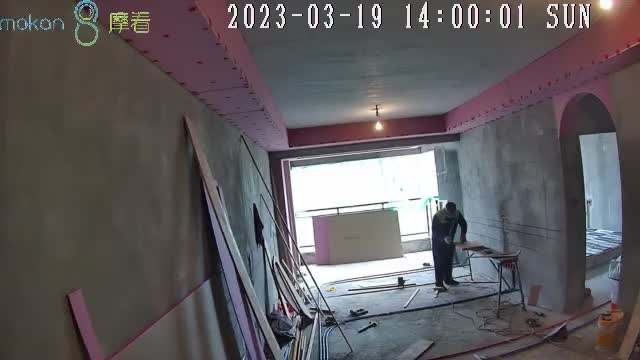people: (431, 201, 468, 292)
window: (287, 149, 437, 211)
